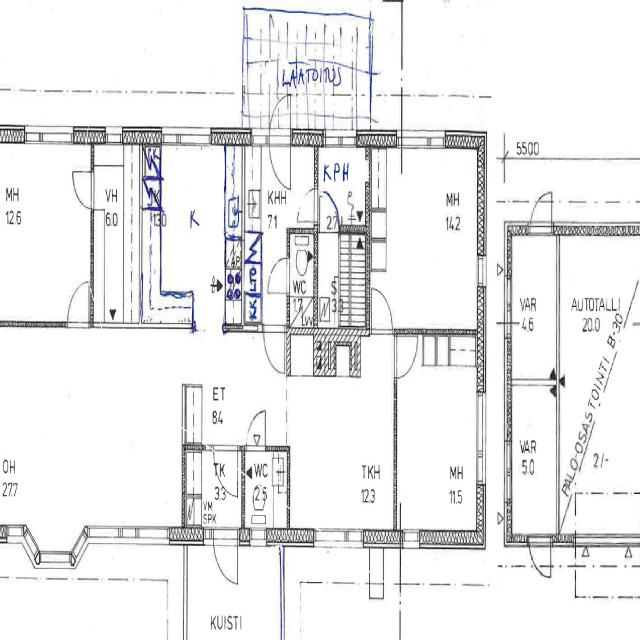door: (213, 527, 237, 590), (214, 444, 238, 496), (270, 127, 291, 185), (270, 87, 291, 144), (530, 182, 551, 236), (393, 336, 419, 378), (529, 534, 550, 586), (67, 280, 89, 328), (371, 290, 392, 336), (264, 326, 284, 372), (71, 172, 94, 210), (246, 408, 265, 450), (320, 190, 338, 234), (268, 258, 290, 293), (296, 188, 318, 222)
